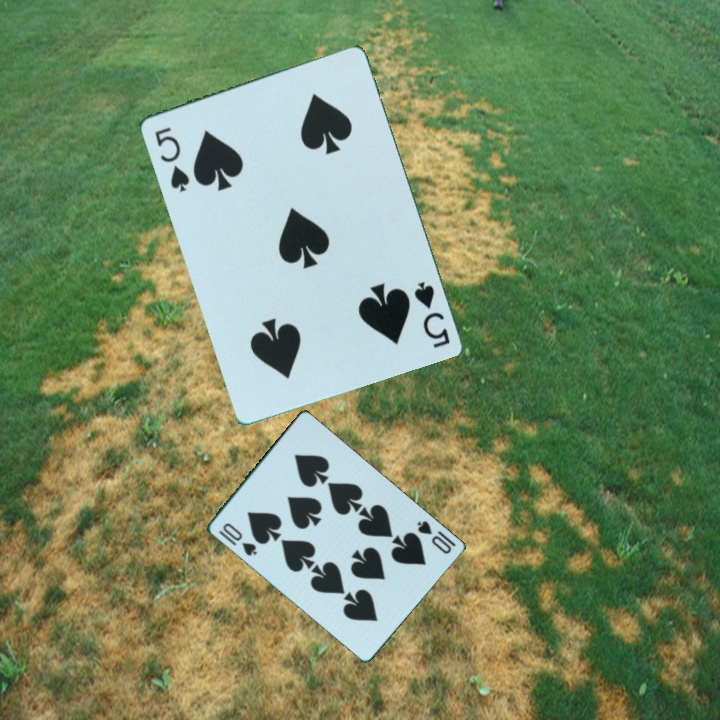10s: (214, 519, 259, 559), (413, 517, 458, 557)
5s: (409, 277, 453, 351), (150, 123, 192, 195)
